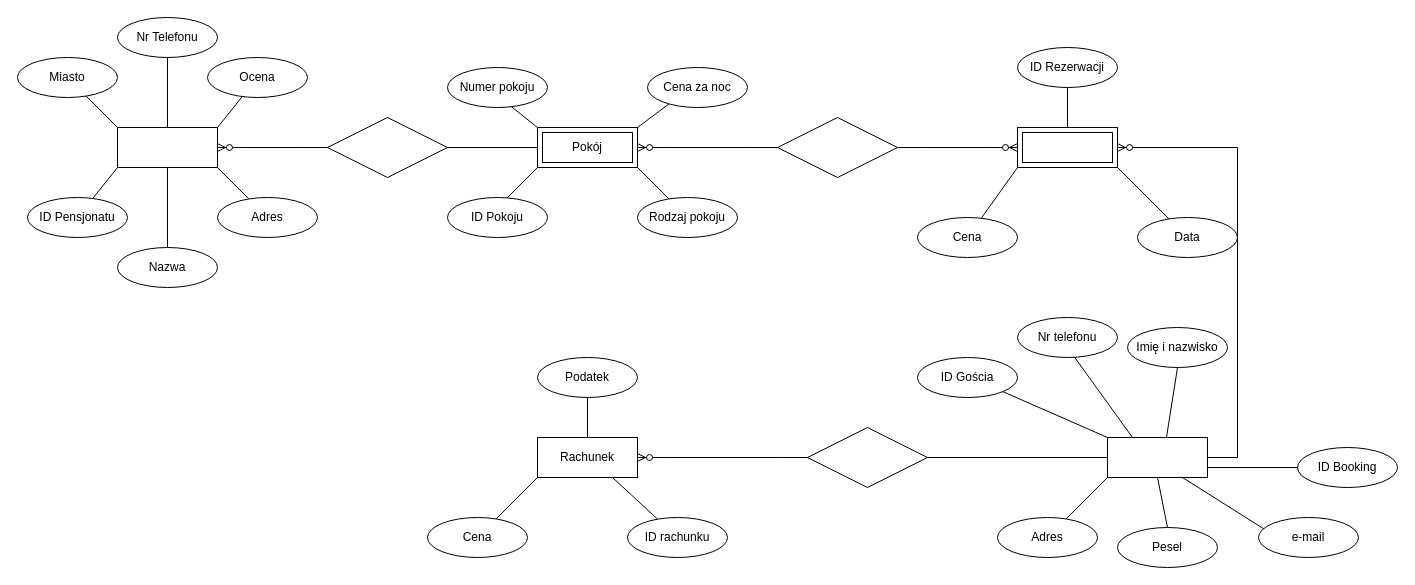
This 1415x585 diagram has some shape labels left out. The shapes that lost their labels are listed below. From the top down, each one's box as (x1, y1, x2, y2) in pixels, then its label:
(116, 126, 218, 168): Pensjonat
(326, 116, 448, 178): Znajduje sie w
(776, 116, 898, 178): Związany jest z
(1016, 126, 1118, 168): Rezerwacja
(806, 426, 928, 488): Płaci
(1106, 436, 1208, 478): Goście
